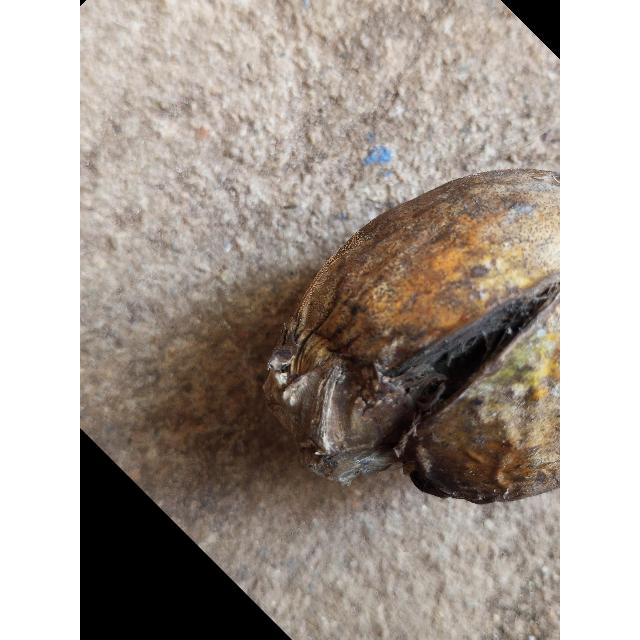damaged: (263, 164, 560, 507)
